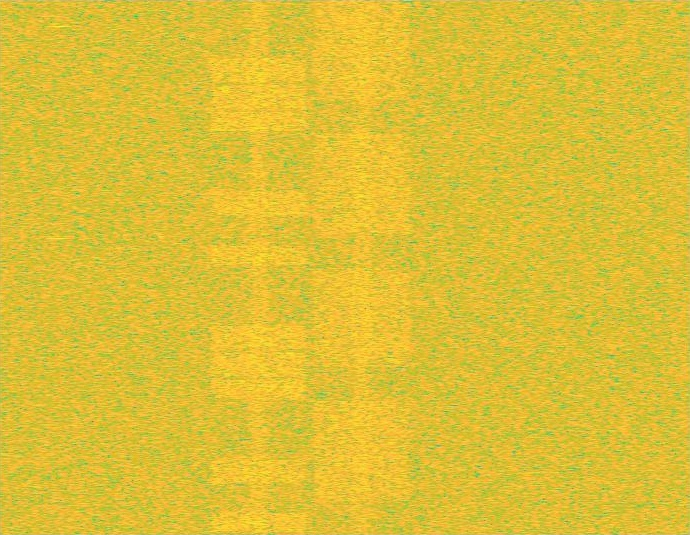5G: (311, 0, 414, 534)
DSSS: (247, 0, 270, 534), (351, 0, 374, 534)
LTE: (207, 0, 311, 534)
Radar: (51, 0, 65, 534)
